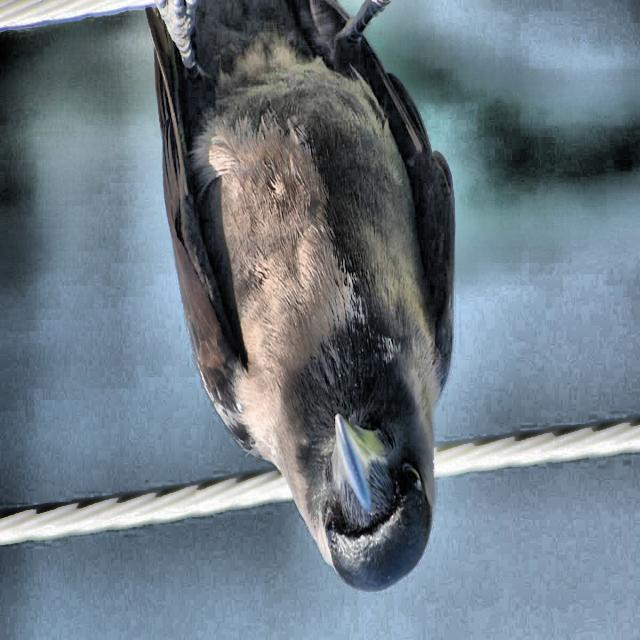crow: (130, 1, 470, 594)
